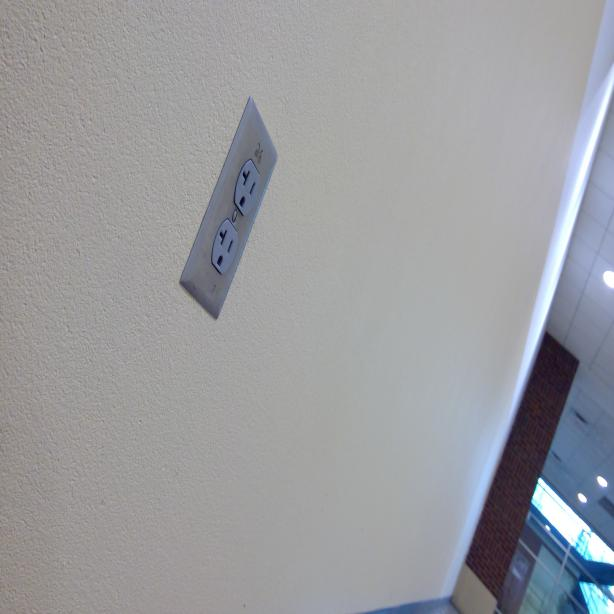typeb: (212, 217, 239, 275), (238, 162, 260, 214)
